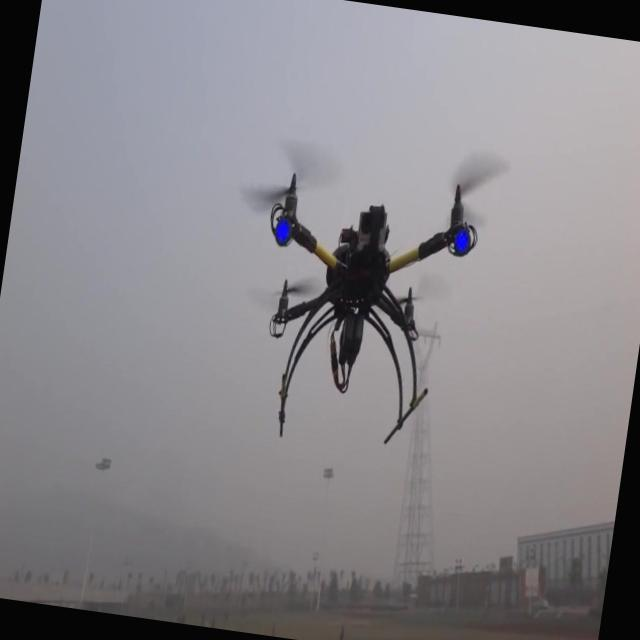drone: (240, 147, 488, 466)
